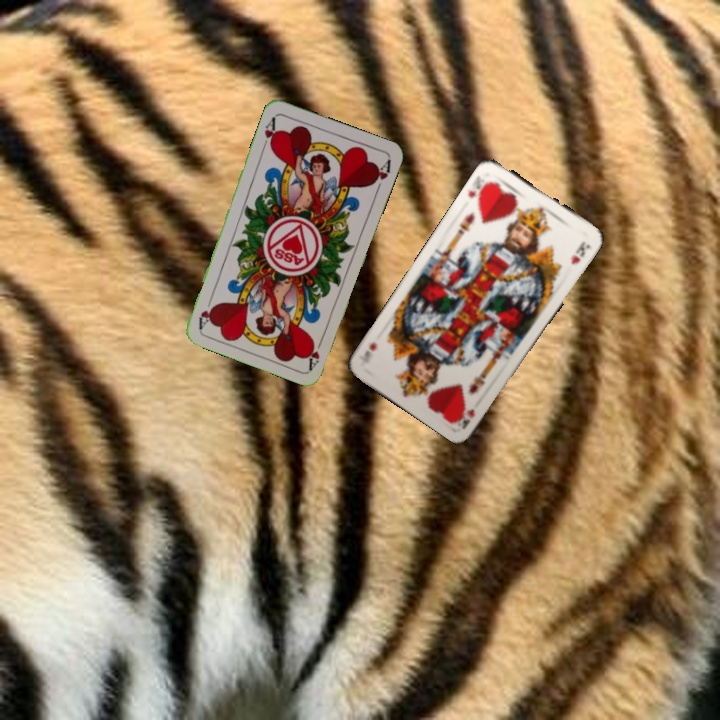HA: (303, 332, 327, 372), (258, 112, 280, 152)
HK: (463, 177, 494, 203), (458, 405, 477, 431)
